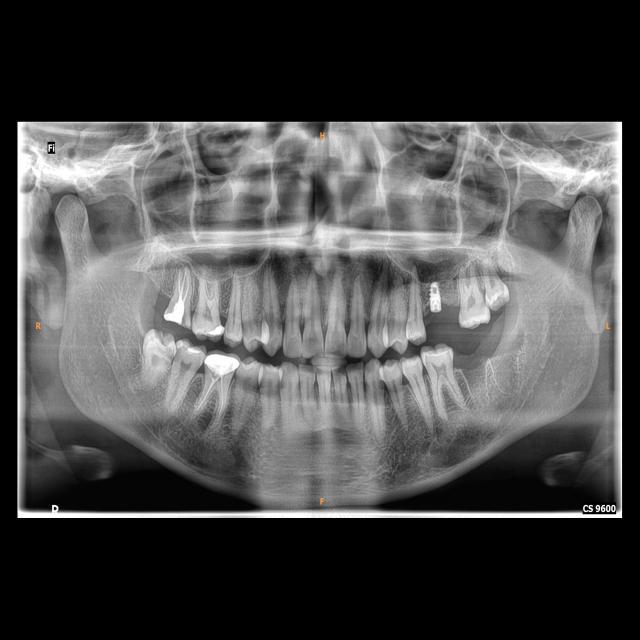dolgu: (162, 296, 192, 328), (198, 315, 228, 341)
implant: (426, 272, 444, 318)
kanal-tedavisi: (169, 266, 193, 306), (203, 378, 228, 416)
kaplama: (206, 347, 242, 382)
